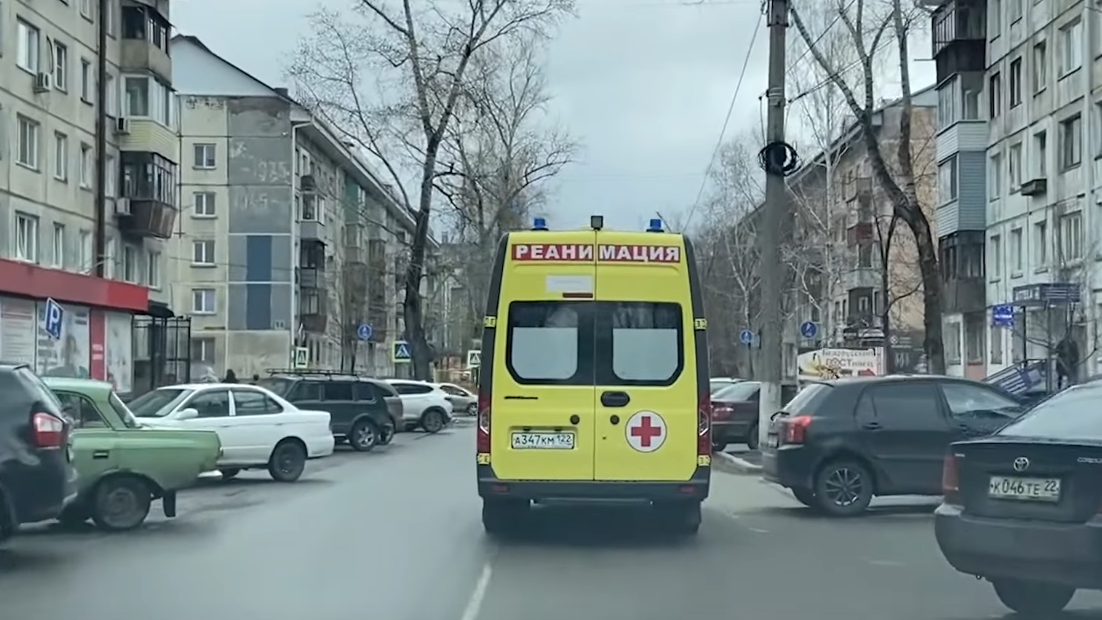intensive care unit: (474, 209, 714, 544)
non emergency car: (763, 372, 1033, 516), (939, 371, 1099, 611), (26, 379, 220, 531), (128, 379, 332, 483), (2, 359, 72, 560), (259, 374, 389, 453), (394, 377, 453, 436)
